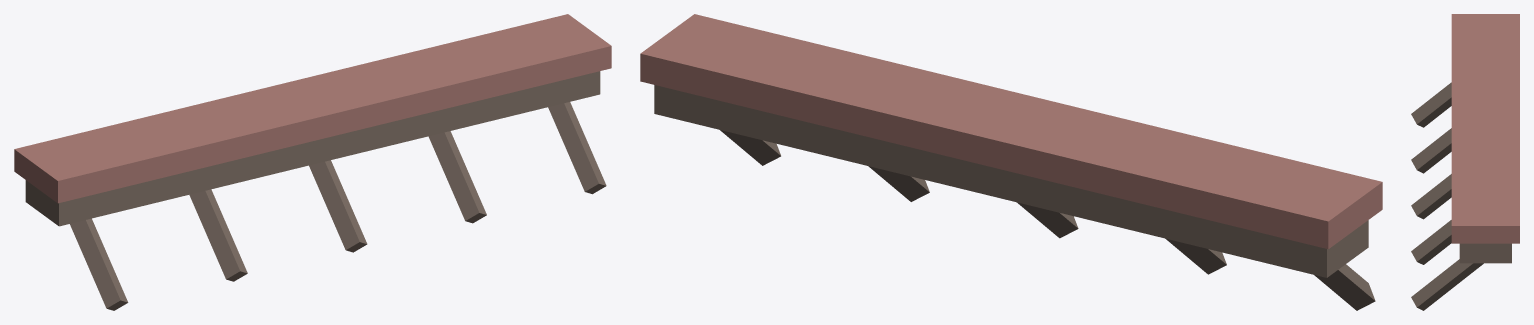
File: beiral_vermelho.glb
The picture shows the model from 3 angles, left to right: view 1: azimuth 30°, elevation 25°; view 2: azimuth 150°, elevation 25°; view 3: azimuth 270°, elevation 25°; orthographic projection. The views are drawn at different scales.
Parts seen in each view (by area): view 1: beiral_vermelho_part_001, beiral_vermelho_part_000, beiral_vermelho_part_003, beiral_vermelho_part_002, beiral_vermelho_part_004, beiral_vermelho_part_006, beiral_vermelho_part_005; view 2: beiral_vermelho_part_001, beiral_vermelho_part_000, beiral_vermelho_part_002, beiral_vermelho_part_006, beiral_vermelho_part_003, beiral_vermelho_part_005, beiral_vermelho_part_004; view 3: beiral_vermelho_part_001, beiral_vermelho_part_006, beiral_vermelho_part_000, beiral_vermelho_part_002, beiral_vermelho_part_004, beiral_vermelho_part_005, beiral_vermelho_part_003.
Boxes of the visible parts, x1,y1,x2,y2 form: beiral_vermelho_part_001: (14, 14, 611, 203); beiral_vermelho_part_000: (25, 71, 600, 226); beiral_vermelho_part_003: (189, 189, 247, 281); beiral_vermelho_part_002: (70, 218, 128, 310); beiral_vermelho_part_004: (309, 160, 367, 252); beiral_vermelho_part_006: (548, 102, 606, 194); beiral_vermelho_part_005: (428, 131, 486, 223); beiral_vermelho_part_001: (640, 14, 1382, 249); beiral_vermelho_part_000: (654, 85, 1368, 277); beiral_vermelho_part_002: (1314, 264, 1375, 310); beiral_vermelho_part_006: (720, 130, 780, 165); beiral_vermelho_part_003: (1165, 238, 1226, 274); beiral_vermelho_part_005: (868, 166, 929, 201); beiral_vermelho_part_004: (1017, 202, 1078, 238); beiral_vermelho_part_001: (1451, 14, 1519, 243); beiral_vermelho_part_006: (1411, 259, 1483, 310); beiral_vermelho_part_000: (1459, 243, 1511, 263); beiral_vermelho_part_002: (1411, 82, 1451, 127); beiral_vermelho_part_004: (1411, 174, 1451, 219); beiral_vermelho_part_005: (1411, 220, 1451, 264); beiral_vermelho_part_003: (1411, 128, 1451, 173).
Size of the model in its own units: 4.4 by 0.959 by 0.9554.
